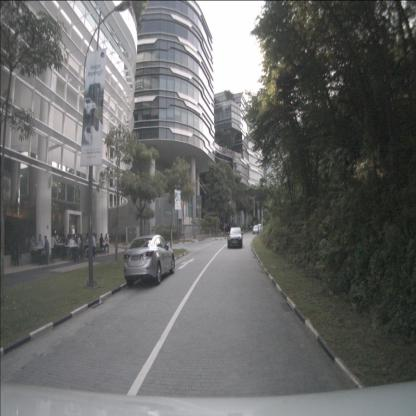human-pedestrian-adult: (40, 235, 50, 265), (30, 235, 38, 265), (69, 234, 77, 261), (37, 234, 44, 262), (51, 233, 58, 259), (78, 235, 84, 260), (61, 235, 67, 259), (65, 234, 71, 257), (100, 233, 106, 253), (91, 233, 96, 257), (85, 235, 90, 258), (57, 235, 62, 258), (92, 233, 97, 255), (104, 233, 109, 254), (72, 234, 76, 257), (77, 234, 81, 255)
vehicle-car: (123, 234, 175, 286), (228, 227, 242, 249), (252, 224, 259, 235), (257, 223, 262, 233)
